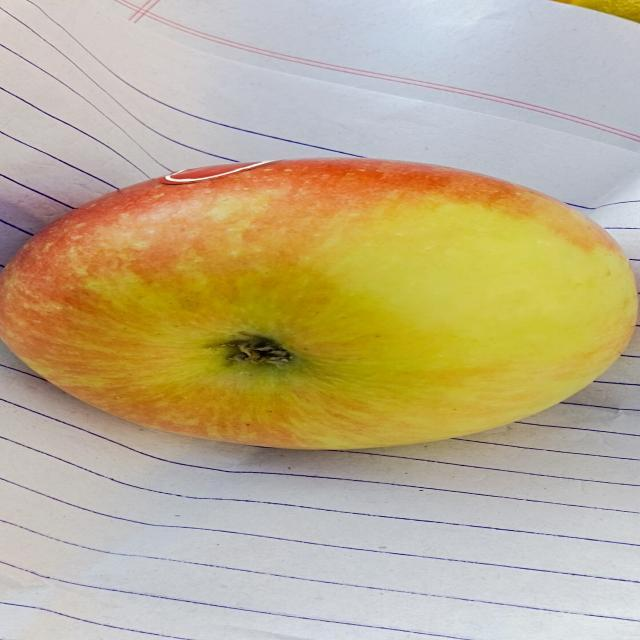Fresh Apple: (8, 148, 640, 452)
